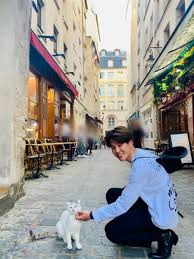people: (103, 128, 178, 259)
